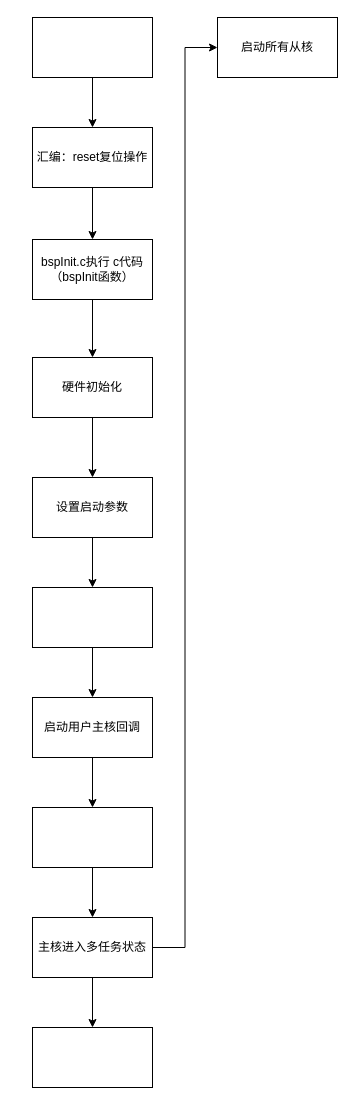
This 355x1105 diagram has some shape labels left out. The centre of each missing label's shape, as x and y in pixels:
"启动内核 （API_KernelPrimaryStart）" belongs at pixel 92 617.
"开始" belongs at pixel 92 47.
"通知从核进入多任务状态" belongs at pixel 92 837.
